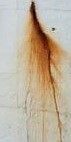Corrosion: (25, 1, 68, 142)
